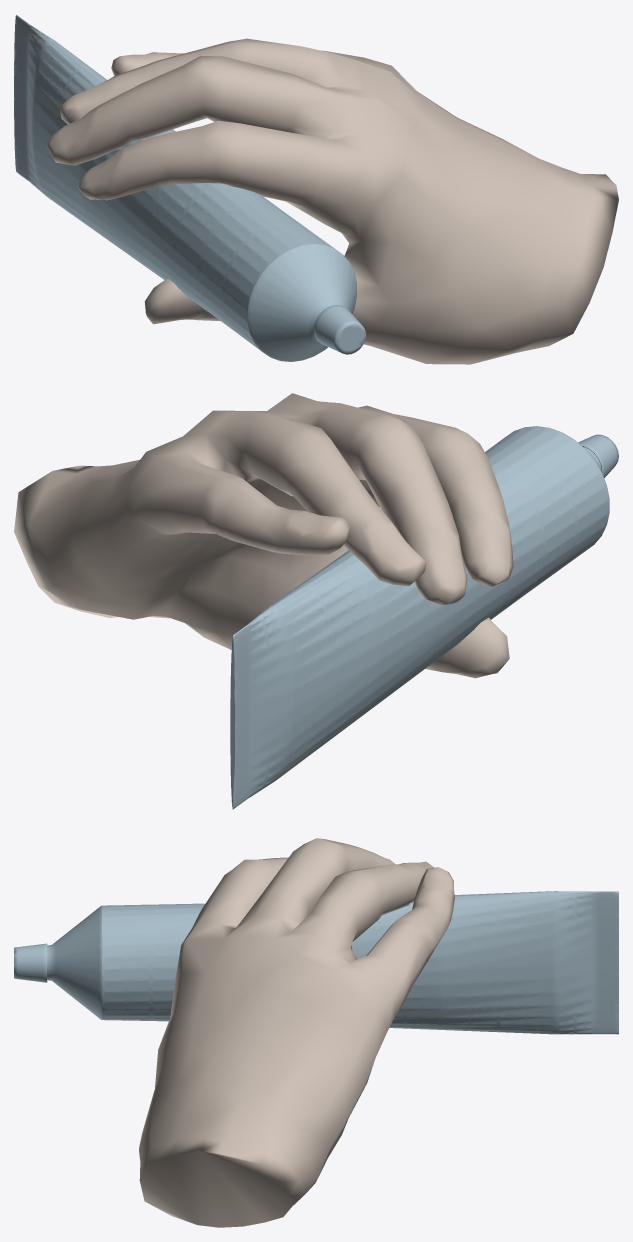
The model's file is grasp_1.glb.
The picture shows the model from 3 angles, top to bottom: view 1: azimuth 30°, elevation 25°; view 2: azimuth 150°, elevation 25°; view 3: azimuth 270°, elevation 25°; orthographic projection. The views are drawn at different scales.
Size of the model in its own units: 0.1688 by 0.0989 by 0.202.
